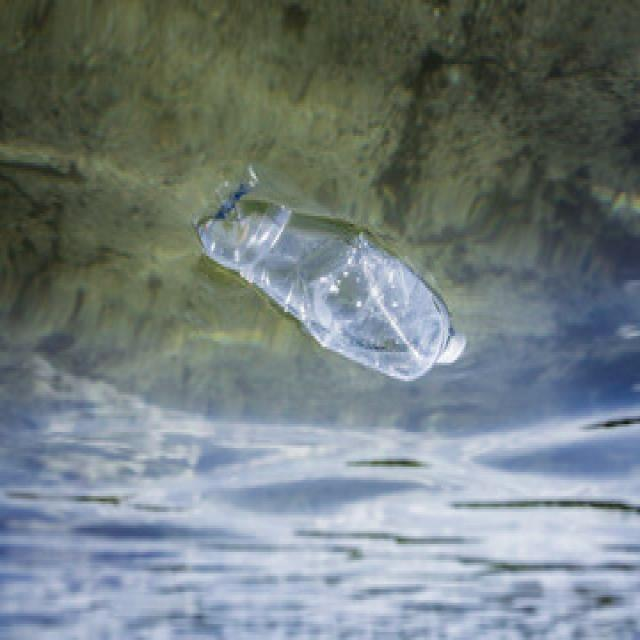Plastic: (198, 193, 469, 380)
